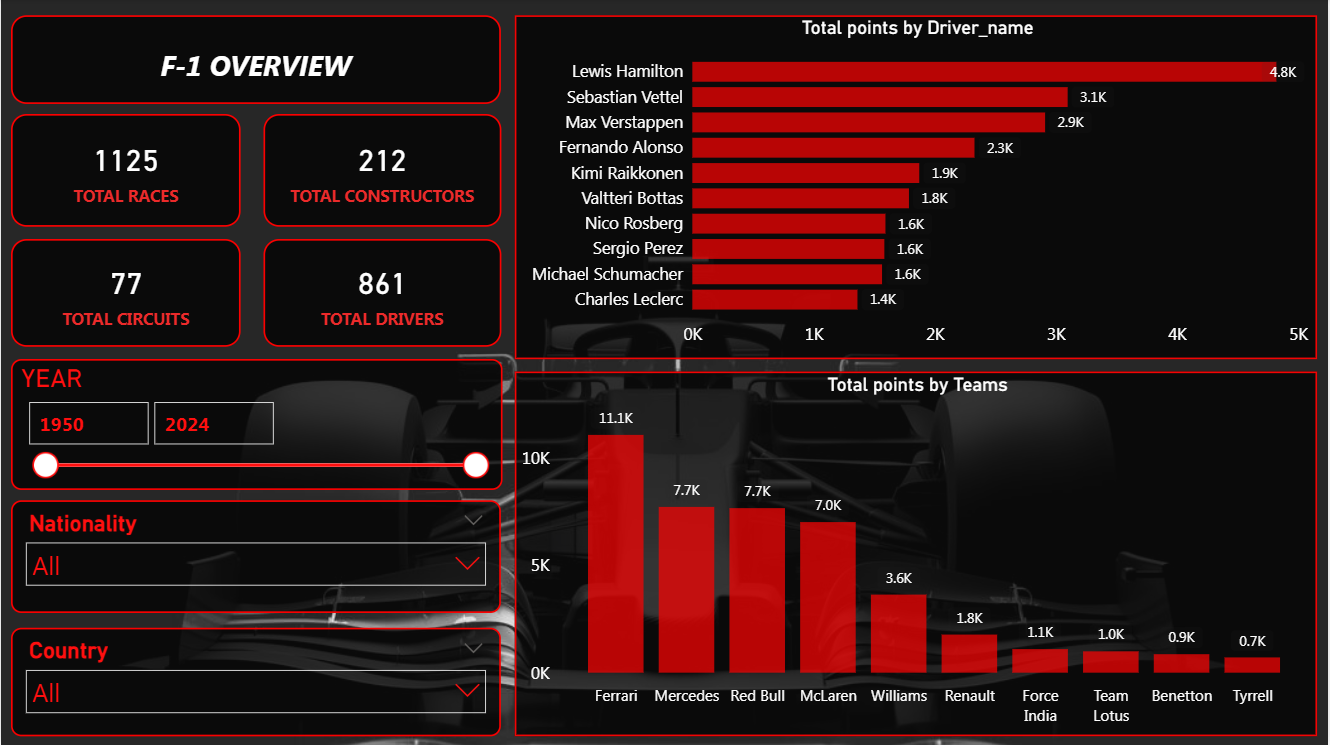

The dashboard page shown, as its layout file describes it:
{"tool":"powerbi","page":{"name":"Introduction to F1","canvas":[1280,720],"ordinal":0},"visuals":[{"type":"card","fields":{"Values":["Count(Races.raceId)"]},"box":[9.7,111,222,108.6],"z":0},{"type":"card","fields":{"Values":["Count(Drivers.driverId)"]},"box":[253.4,231.6,229.2,103.8],"z":1000},{"type":"card","fields":{"Values":["Count(constructor.constructorId)"]},"box":[253.4,111,229.2,108.6],"z":2000},{"type":"card","fields":{"Values":["Count(circuits.circuitId)"]},"box":[9.7,231.6,222,103.8],"z":3000},{"type":"barChart","fields":{"Category":["Drivers.Driver_name"],"Y":["Constructor_standings.Total points"]},"box":[495.8,15.7,774.5,331.8],"z":4000},{"type":"columnChart","title":"Total points by Teams","fields":{"Category":["constructor.name"],"Y":["Constructor_standings.Total points"]},"box":[495.8,359.5,774.5,352.3],"z":5000},{"type":"slicer","title":"YEAR","fields":{"Values":["Races.year"]},"box":[9.7,347.5,474.1,126.7],"z":6000},{"type":"slicer","fields":{"Values":["Drivers.nationality"]},"box":[9.7,483.8,472.9,108.6],"z":7000},{"type":"slicer","fields":{"Values":["circuits.country"]},"box":[9.7,606.8,472.9,105],"z":8000},{"type":"textbox","box":[9.7,15.7,472.9,85.7],"z":9000}]}

Visuals, with their boxes in screenshot pixels (x1, y1, x2, y2), scaled from the page's 1280x720 canvas onto the 1330x745 screenshot:
card - Count(Races.raceId): box=[10, 115, 241, 227]
card - Count(Drivers.driverId): box=[263, 240, 501, 347]
card - Count(constructor.constructorId): box=[263, 115, 501, 227]
card - Count(circuits.circuitId): box=[10, 240, 241, 347]
barChart - Drivers.Driver_name x Constructor_standings.Total points: box=[515, 16, 1320, 360]
"Total points by Teams" columnChart: box=[515, 372, 1320, 737]
"YEAR" slicer: box=[10, 360, 503, 491]
slicer - Drivers.nationality: box=[10, 501, 501, 613]
slicer - circuits.country: box=[10, 628, 501, 737]
textbox: box=[10, 16, 501, 105]
